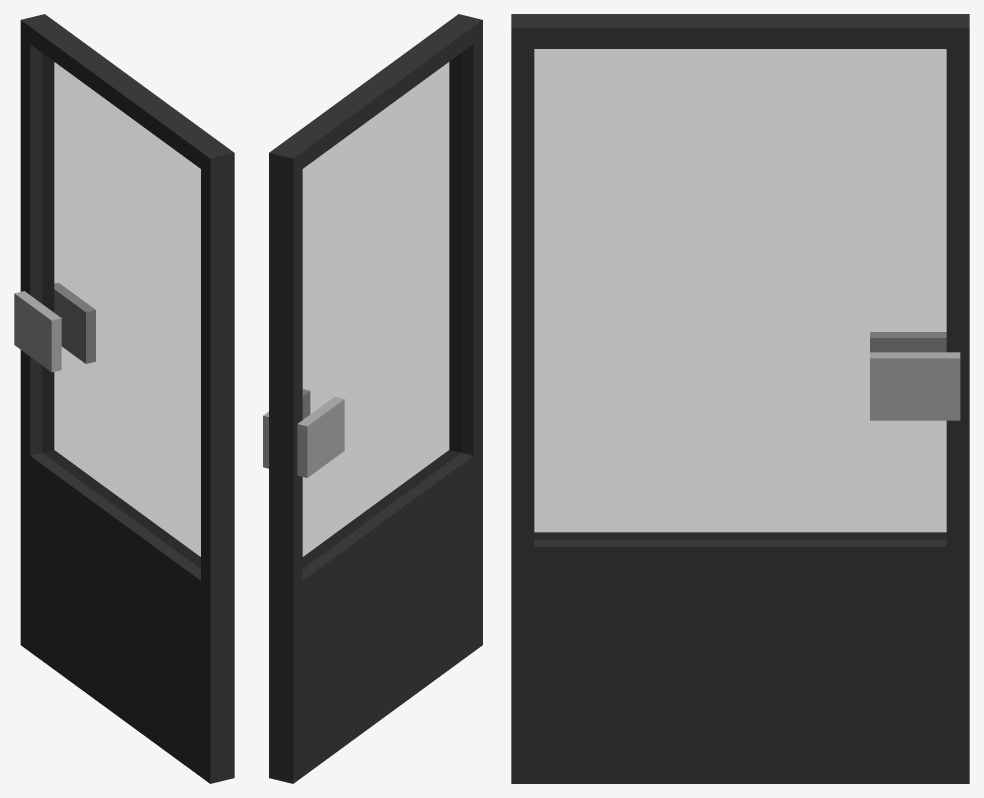
Rendered from SM_doorShop_01.glb.
3 renders of one model, left to right at view 1: azimuth 30°, elevation 25°; view 2: azimuth 150°, elevation 25°; view 3: azimuth 270°, elevation 25°, orthographic. The views are drawn at different scales.
Parts seen in each view (by area): view 1: SM_doorShop_01; view 2: SM_doorShop_01; view 3: SM_doorShop_01.
Part boxes in pixels (<box>): SM_doorShop_01: <box>14,14,234,783</box>; SM_doorShop_01: <box>263,14,482,783</box>; SM_doorShop_01: <box>511,14,969,783</box>.
Bounding box in the file's own units: 0.1614 × 2.18 × 1.2.
3 materials, 1 textured.
